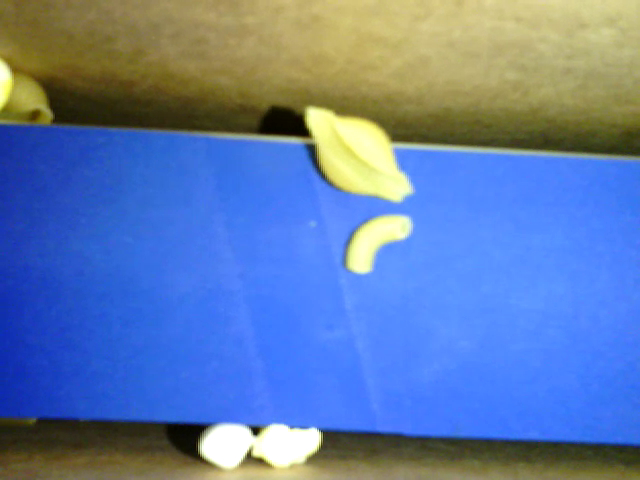elbow: (344, 217, 414, 274)
shell: (302, 103, 412, 208)
